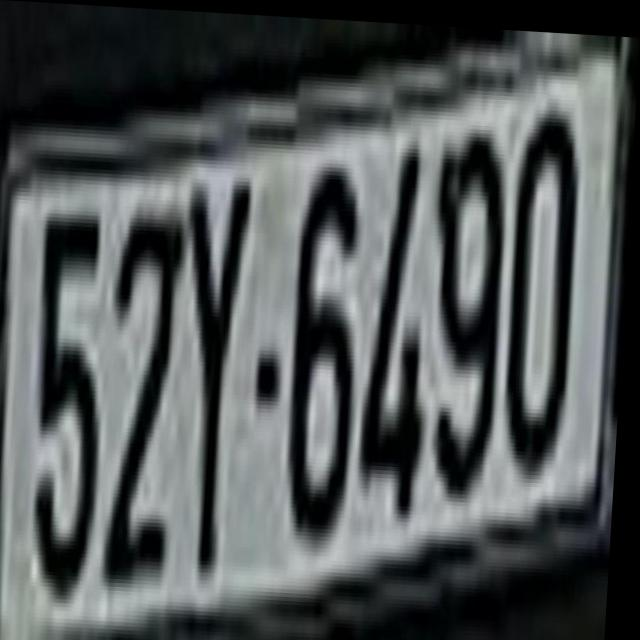0: (505, 102, 587, 481)
2: (105, 188, 187, 579)
4: (359, 134, 442, 529)
5: (30, 196, 117, 603)
6: (287, 150, 370, 557)
9: (431, 130, 510, 502)
Y: (174, 168, 257, 590)
